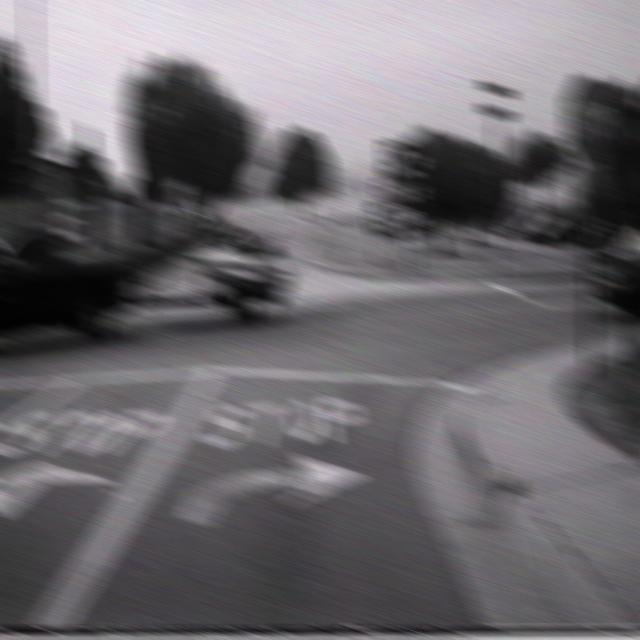stop_sign: (561, 72, 615, 166)
